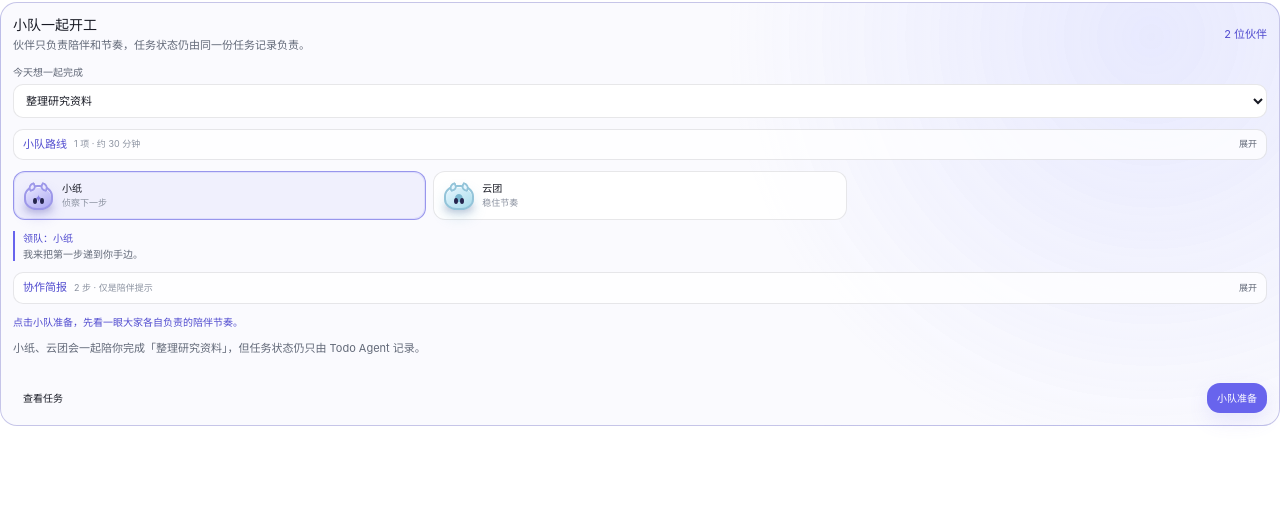
it: PetTeamHuddleCard › shows a collapsible lead-first briefing and advances its preparation steps
Click the button "协作简报 2 步 · 仅是陪伴提示 展开": [45, 287] box [13,272,1267,304]
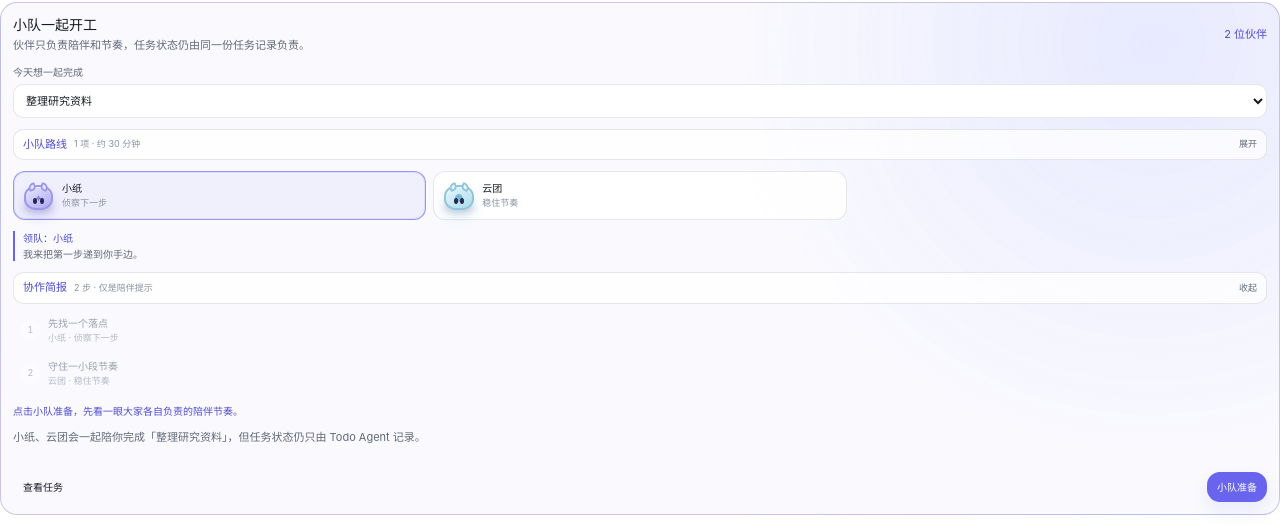
Expected: the button "协作简报 2 步 · 仅是陪伴提示 收起" is expanded, [13,272,1267,304]
Expected: the text "先找一个落点" is shown, [48,317,108,329]
Click the button "小队准备": [1237, 487] box [1207,472,1267,502]
Wait 900 ms
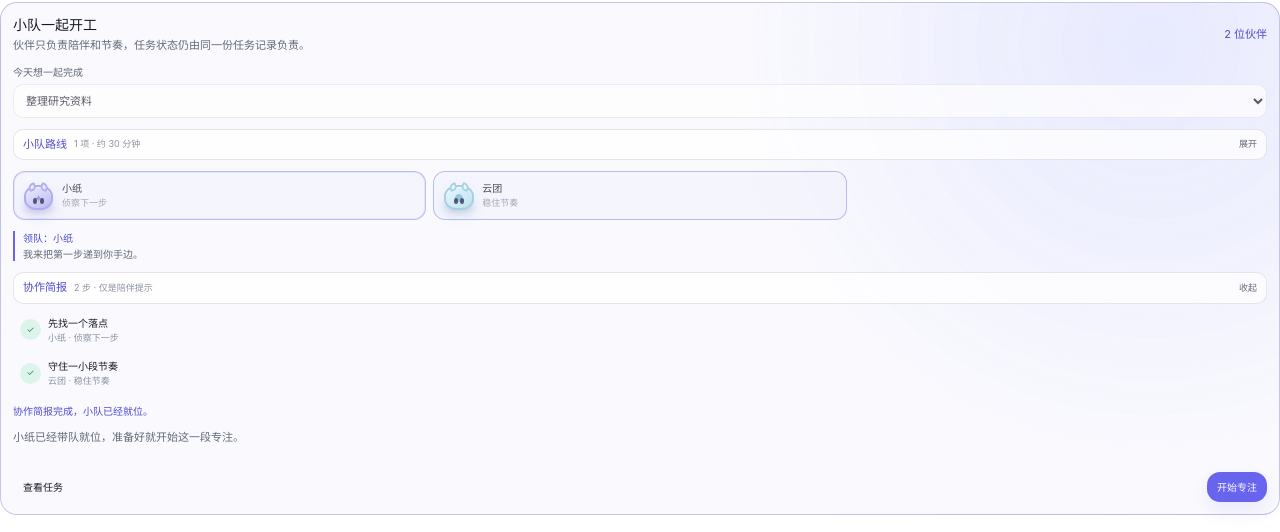
Expected: the text "✓" is shown 2 times, [20,319,41,340]; [20,363,41,384]
Expected: the text "协作简报完成，小队已经就位。" is shown, [13,405,153,417]
